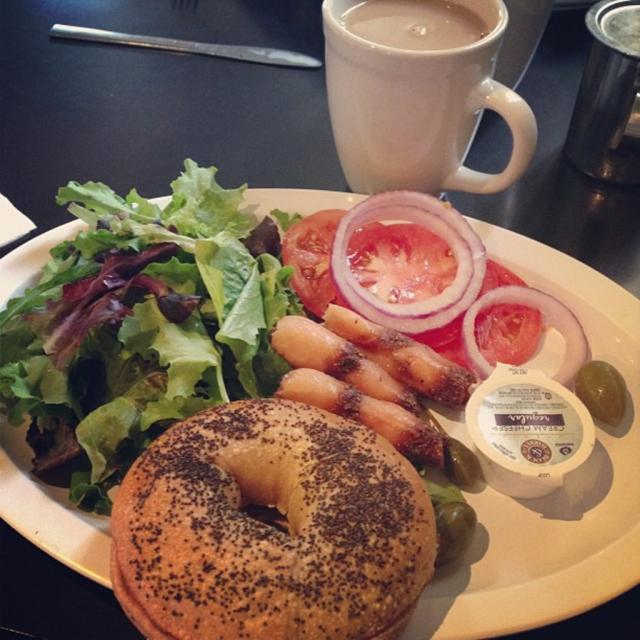Coffee: (338, 0, 530, 191)
Tea: (340, 0, 497, 48)
